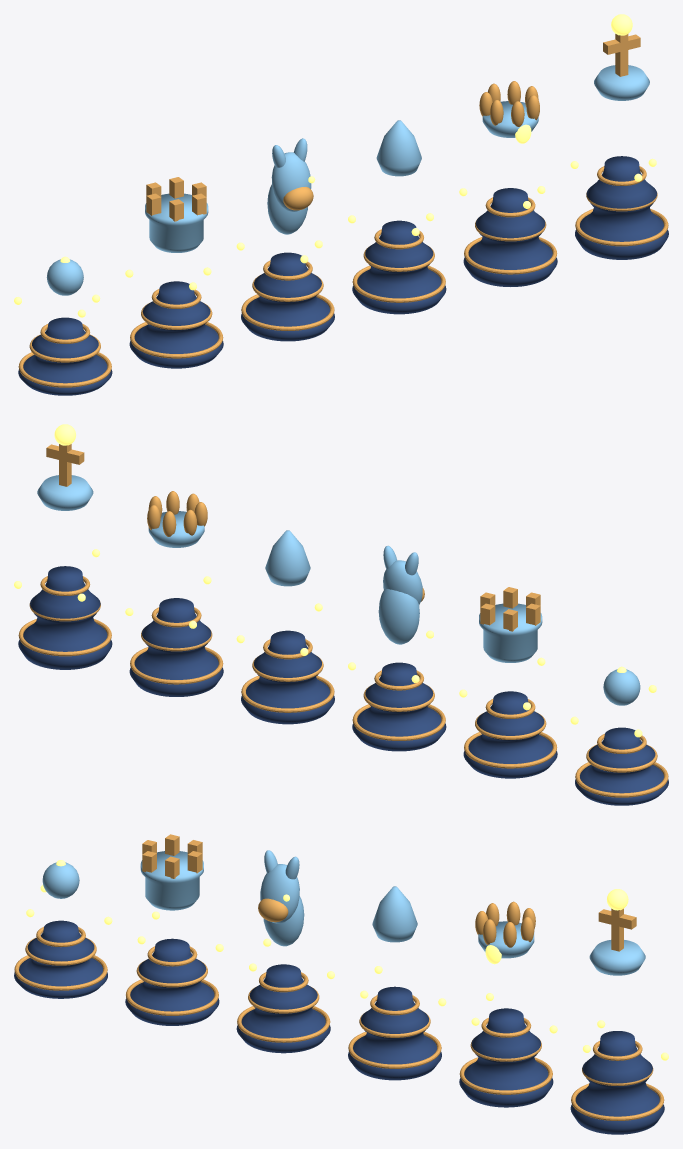
Rendered from 01_Galactico_Cosmico_6_Piezas.glb.
3 views of the same model, one above another, from view 1: azimuth 30°, elevation 25°; view 2: azimuth 150°, elevation 25°; view 3: azimuth 330°, elevation 25° (orthographic).
Parts seen in each view (by area): view 1: 01_Galactico_Cosmico_Torre, 01_Galactico_Cosmico_Rey, 01_Galactico_Cosmico_Caballo, 01_Galactico_Cosmico_Reina, 01_Galactico_Cosmico_Alfil, 01_Galactico_Cosmico_Peon; view 2: 01_Galactico_Cosmico_Torre, 01_Galactico_Cosmico_Rey, 01_Galactico_Cosmico_Caballo, 01_Galactico_Cosmico_Reina, 01_Galactico_Cosmico_Alfil, 01_Galactico_Cosmico_Peon; view 3: 01_Galactico_Cosmico_Torre, 01_Galactico_Cosmico_Rey, 01_Galactico_Cosmico_Reina, 01_Galactico_Cosmico_Caballo, 01_Galactico_Cosmico_Alfil, 01_Galactico_Cosmico_Peon.
Boxes of the visible parts, x1=… form: 01_Galactico_Cosmico_Torre: x1=125, y1=177, x2=223, y2=368; 01_Galactico_Cosmico_Rey: x1=570, y1=14, x2=668, y2=259; 01_Galactico_Cosmico_Caballo: x1=236, y1=138, x2=334, y2=341; 01_Galactico_Cosmico_Reina: x1=459, y1=81, x2=557, y2=286; 01_Galactico_Cosmico_Alfil: x1=348, y1=120, x2=446, y2=314; 01_Galactico_Cosmico_Peon: x1=14, y1=256, x2=112, y2=395; 01_Galactico_Cosmico_Torre: x1=459, y1=587, x2=557, y2=778; 01_Galactico_Cosmico_Rey: x1=14, y1=424, x2=112, y2=669; 01_Galactico_Cosmico_Caballo: x1=348, y1=545, x2=446, y2=751; 01_Galactico_Cosmico_Reina: x1=125, y1=491, x2=223, y2=696; 01_Galactico_Cosmico_Alfil: x1=236, y1=530, x2=334, y2=724; 01_Galactico_Cosmico_Peon: x1=570, y1=666, x2=668, y2=805; 01_Galactico_Cosmico_Torre: x1=125, y1=834, x2=223, y2=1025; 01_Galactico_Cosmico_Rey: x1=570, y1=889, x2=668, y2=1134; 01_Galactico_Cosmico_Reina: x1=459, y1=901, x2=557, y2=1107; 01_Galactico_Cosmico_Caballo: x1=236, y1=850, x2=334, y2=1053; 01_Galactico_Cosmico_Alfil: x1=348, y1=886, x2=446, y2=1080; 01_Galactico_Cosmico_Peon: x1=14, y1=860, x2=112, y2=998.
Size of the model in its own units: 8.16 by 2.77 by 1.09.
